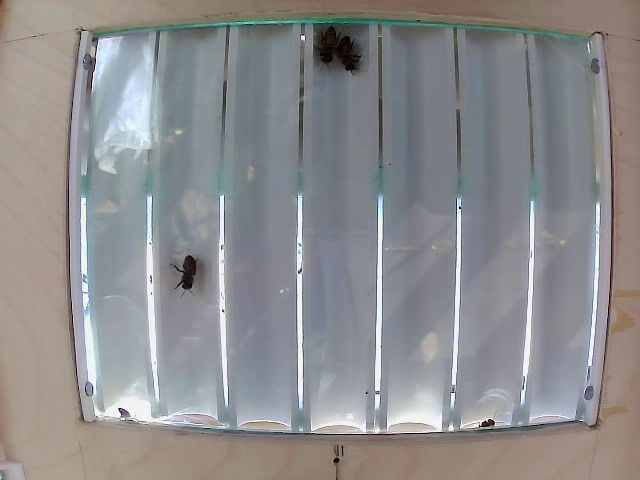bee: (173, 251, 210, 305), (315, 32, 355, 76)
